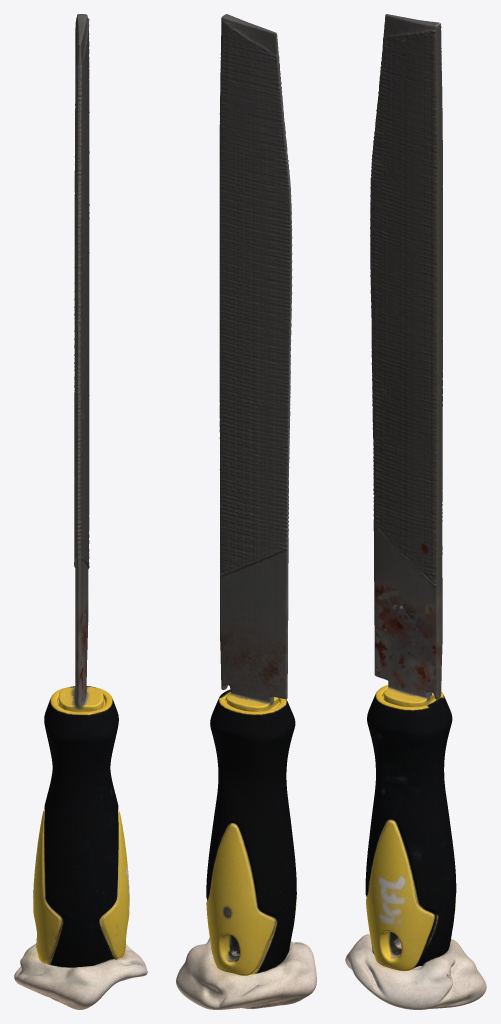
3 views of the same model, side by side, from view 1: azimuth 90°, elevation 25°; view 2: azimuth 150°, elevation 25°; view 3: azimuth 330°, elevation 25° (orthographic).
Parts seen in each view (by area): view 1: mesh_node; view 2: mesh_node; view 3: mesh_node.
Boxes of the visible parts, box(x1,y1,x2,y2) form: mesh_node: box(14, 14, 147, 1009); mesh_node: box(176, 14, 316, 1009); mesh_node: box(345, 14, 486, 1009).
Bounding box in the file's own units: 0.2533 × 1.9 × 0.2385.
1 material, 1 textured.
